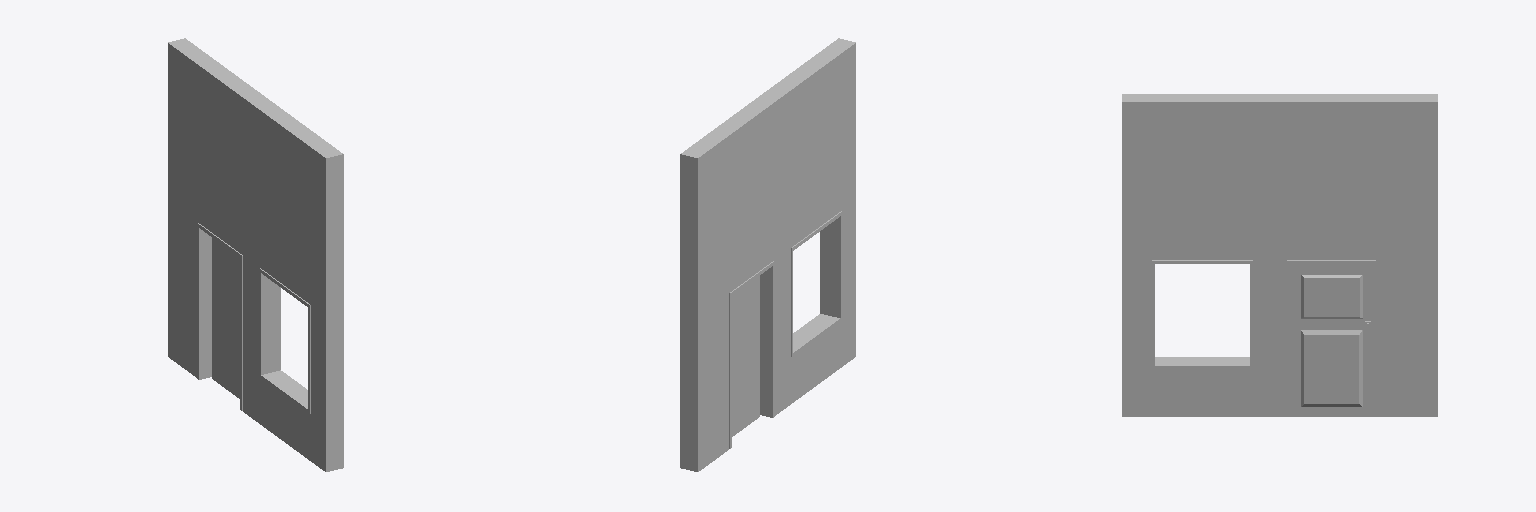
The model's file is frontWall.obj.
3 views of the same model, side by side, from view 1: azimuth 30°, elevation 25°; view 2: azimuth 150°, elevation 25°; view 3: azimuth 270°, elevation 25° (orthographic).
Parts seen in each view (by area): view 1: walls_Front, frontDoor, frontWindow_Trim, frontDoor_Trim; view 2: walls_Front, frontDoor, frontWindow_Trim, frontDoor_Trim; view 3: walls_Front, frontDoor, frontWindow_Trim, frontDoor_Trim.
Boxes of the visible parts, x1=… form: walls_Front: x1=168, y1=38, x2=343, y2=471; frontDoor: x1=212, y1=238, x2=239, y2=398; frontWindow_Trim: x1=259, y1=268, x2=310, y2=413; frontDoor_Trim: x1=198, y1=223, x2=242, y2=410; walls_Front: x1=680, y1=38, x2=855, y2=471; frontDoor: x1=732, y1=276, x2=759, y2=436; frontWindow_Trim: x1=791, y1=211, x2=841, y2=356; frontDoor_Trim: x1=729, y1=261, x2=774, y2=448; walls_Front: x1=1122, y1=94, x2=1437, y2=416; frontDoor: x1=1291, y1=264, x2=1372, y2=416; frontWindow_Trim: x1=1152, y1=260, x2=1252, y2=368; frontDoor_Trim: x1=1287, y1=260, x2=1375, y2=416.
Size of the model in its own units: 7.95 by 117 by 106.